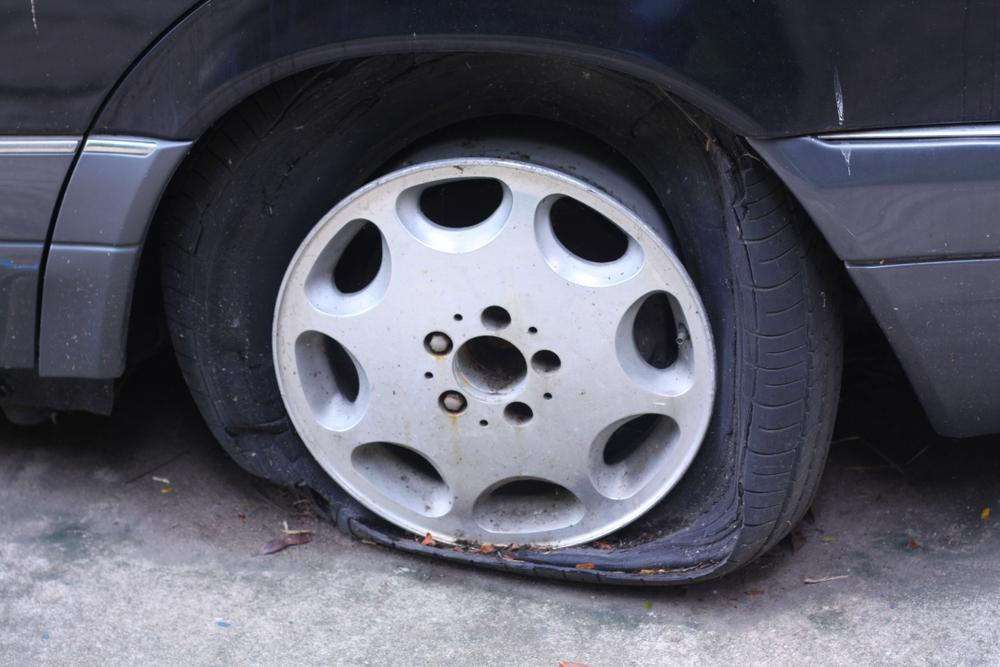tire flat: (163, 53, 846, 590)
